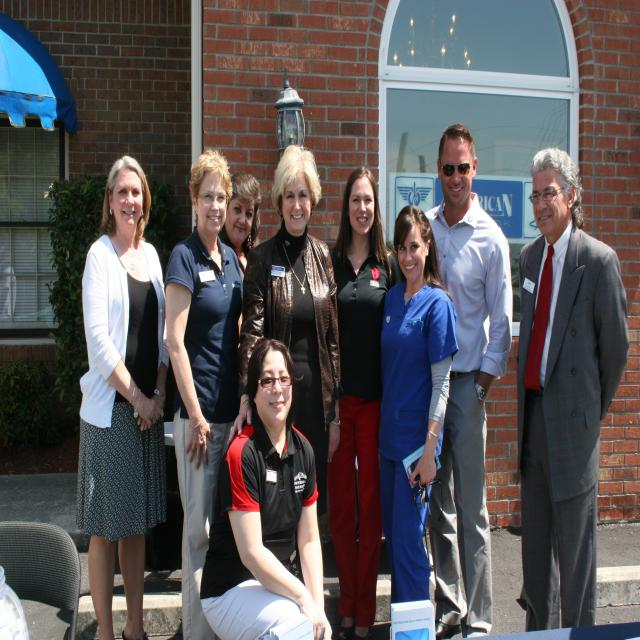body: (512, 144, 632, 640), (74, 150, 178, 640), (418, 122, 514, 639), (225, 145, 343, 522), (197, 336, 337, 640), (160, 147, 244, 638), (327, 165, 398, 640), (376, 203, 459, 604), (218, 170, 262, 282)
